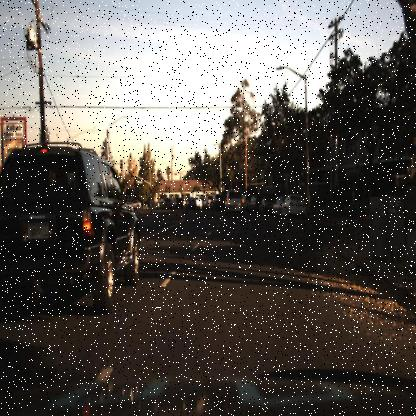car: (0, 137, 156, 325), (281, 189, 310, 221), (221, 184, 245, 217), (182, 189, 202, 211), (245, 191, 259, 218), (270, 193, 285, 217), (212, 191, 224, 215), (258, 192, 271, 214), (201, 194, 213, 212)
